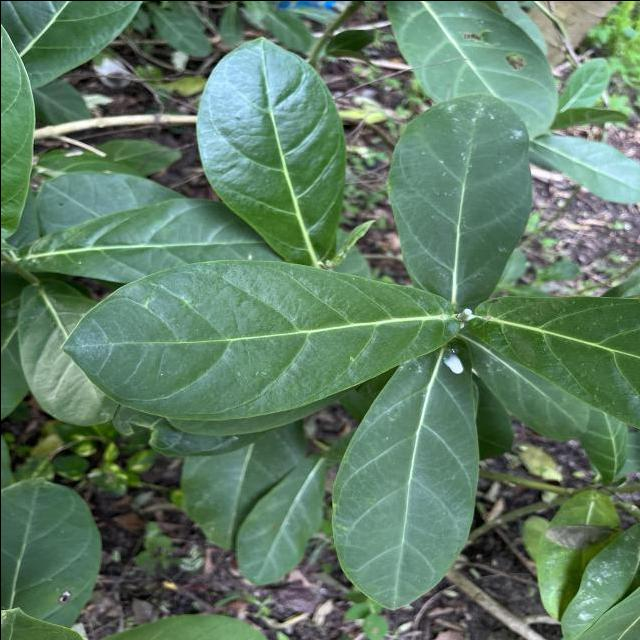Calotropis gigantea: (58, 257, 458, 422), (326, 336, 479, 612), (192, 35, 348, 264), (384, 90, 534, 300)
